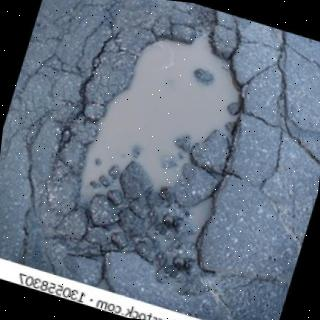pothole: (78, 37, 243, 210)
